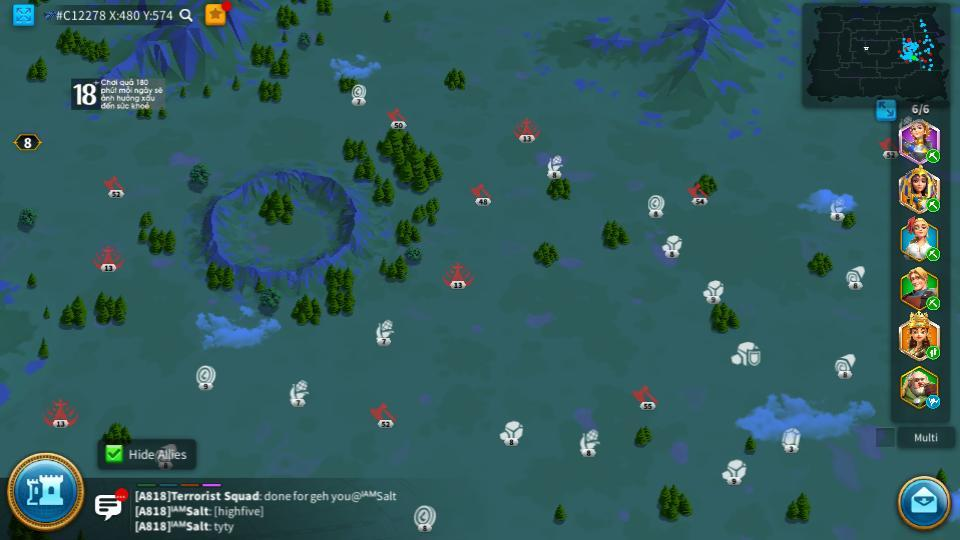march_idle: (925, 396, 942, 408)
march_marching: (925, 197, 941, 212), (925, 150, 941, 162), (925, 248, 941, 260), (925, 297, 942, 308), (926, 347, 941, 359)
